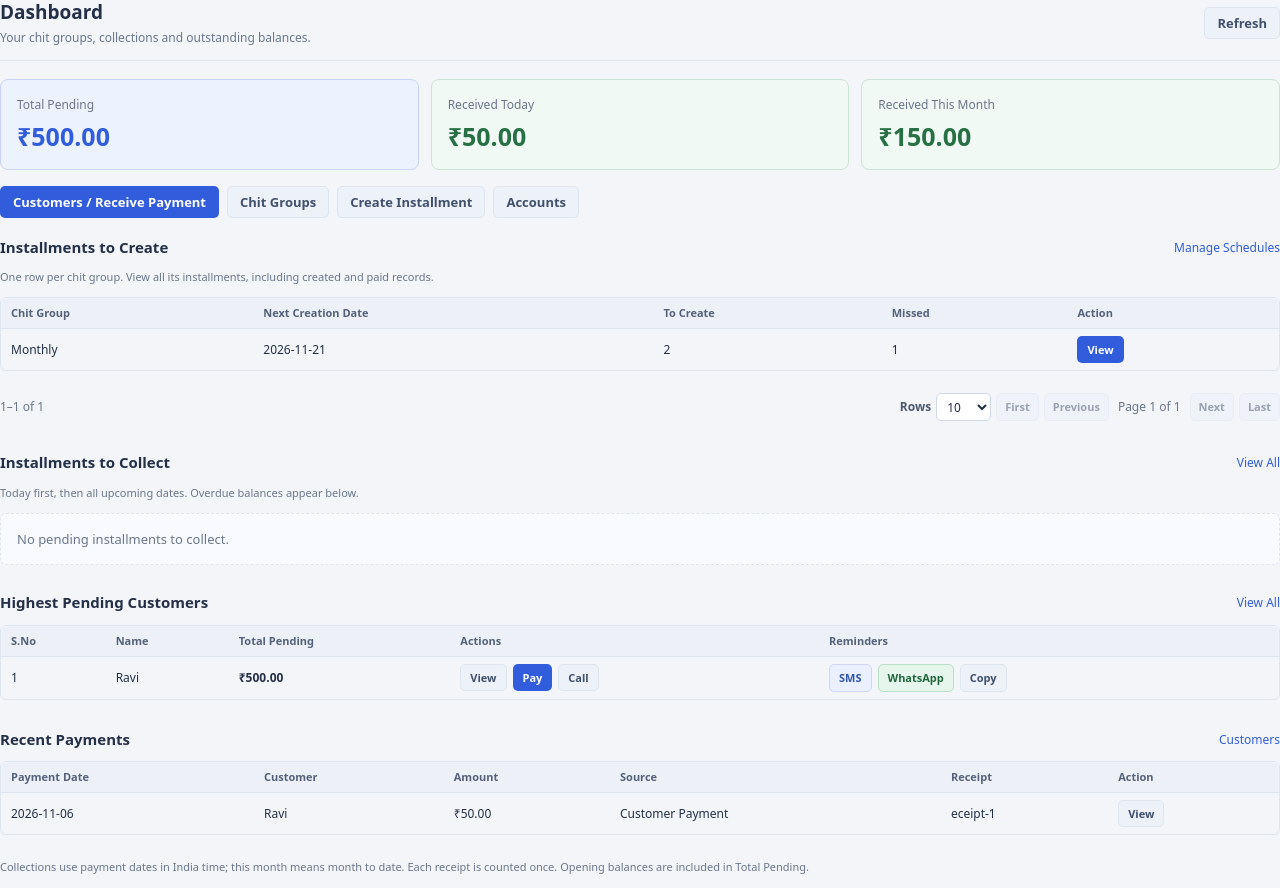
Scenario: Home installment delete confirms, supports cancel and refreshes the open popup after success
Click the button with aria-label "View installments for Monthly": click(1101, 350) [1078, 336, 1124, 363]
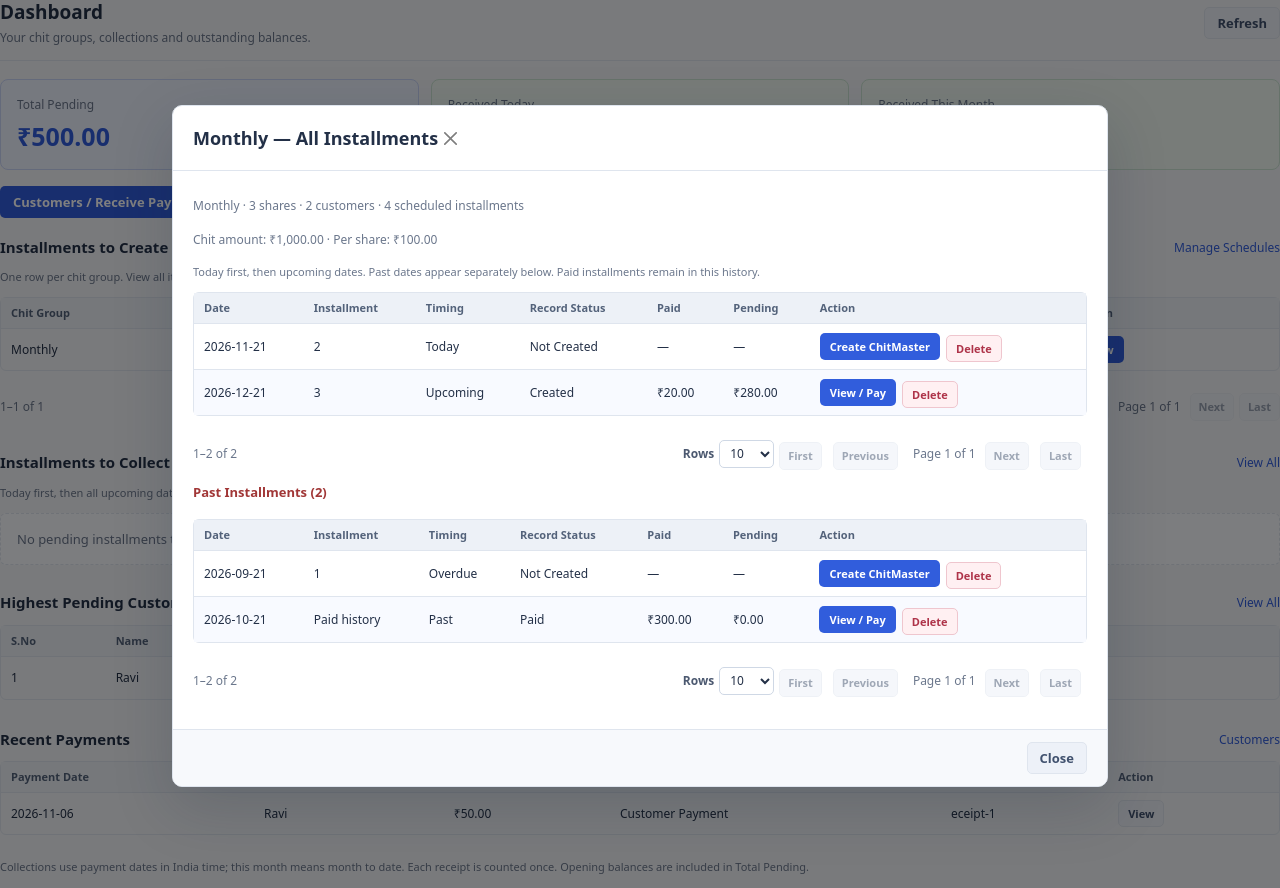
Click the button with aria-label "Delete installment 3 dated 2026-12-21": click(930, 394) [902, 381, 958, 408]
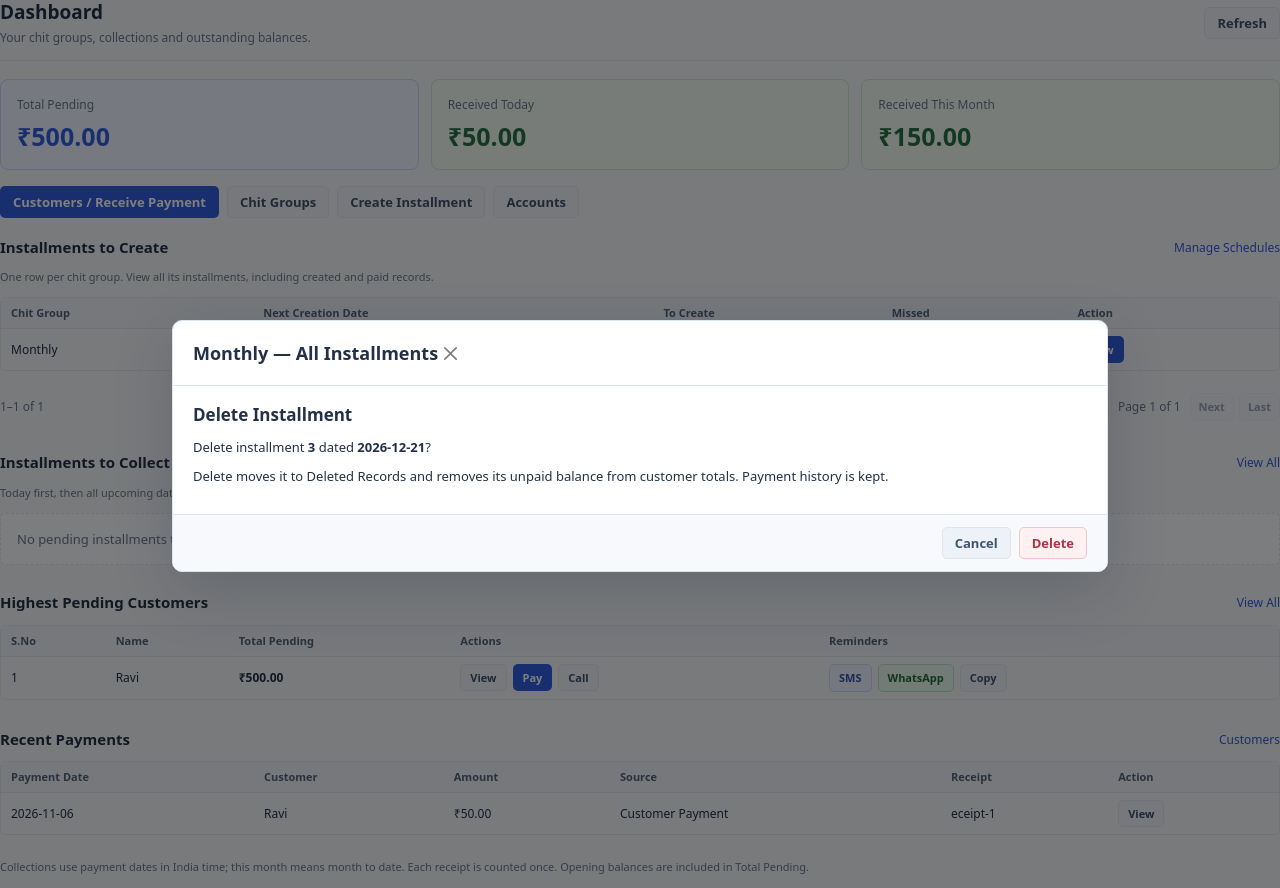
Click the button "Cancel": click(976, 543) [942, 527, 1011, 559]
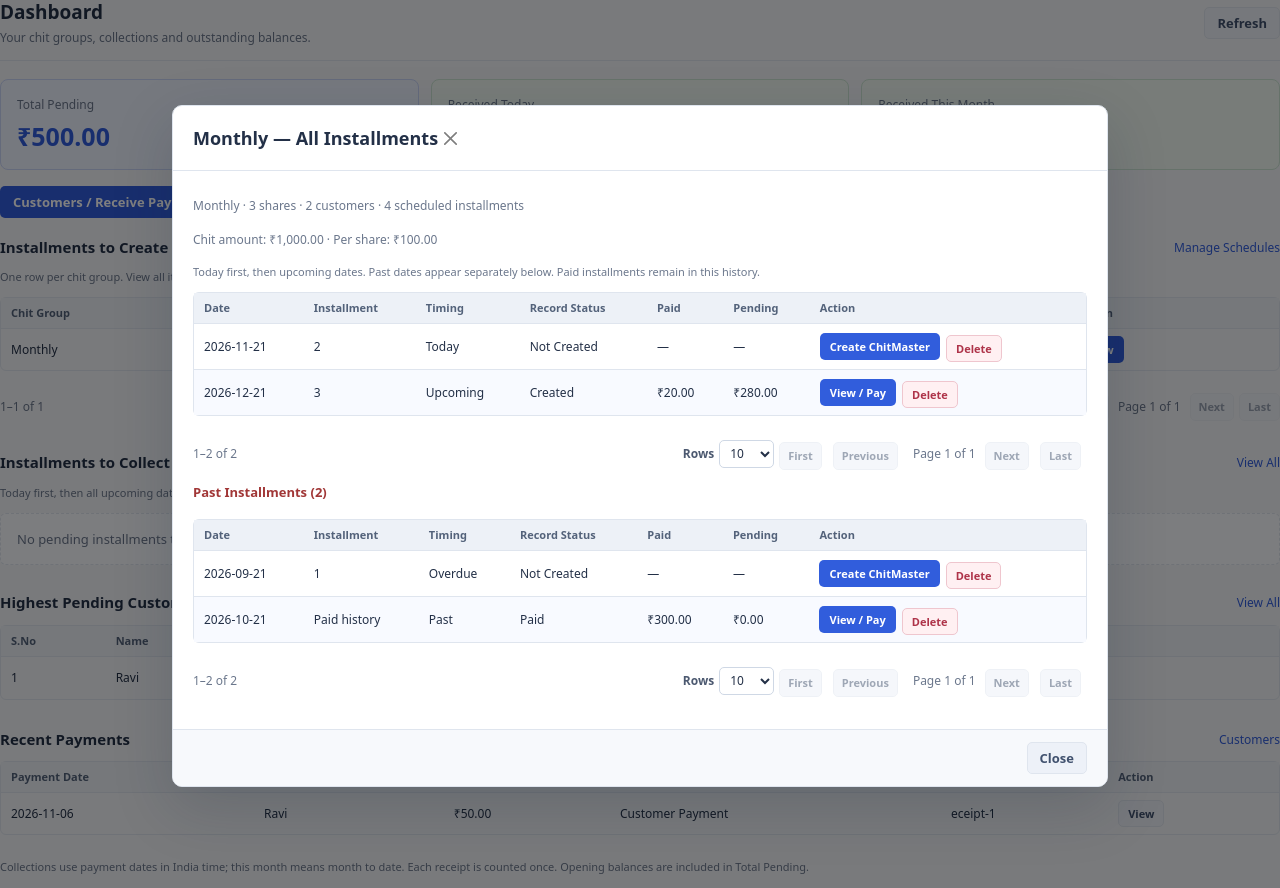
Click the button with aria-label "Delete installment 3 dated 2026-12-21": click(930, 394) [902, 381, 958, 408]
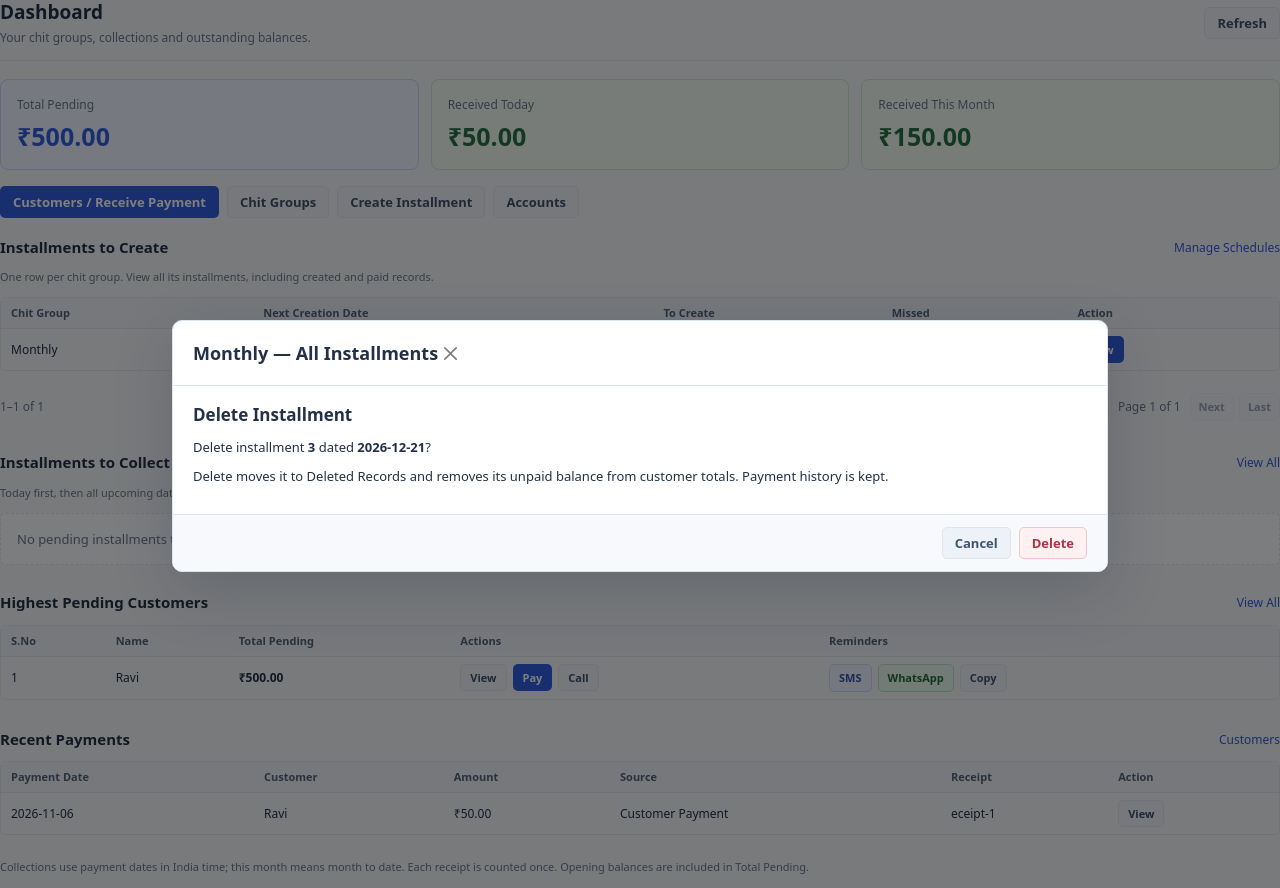
Click the button "Delete": click(1053, 543) [1019, 527, 1087, 559]
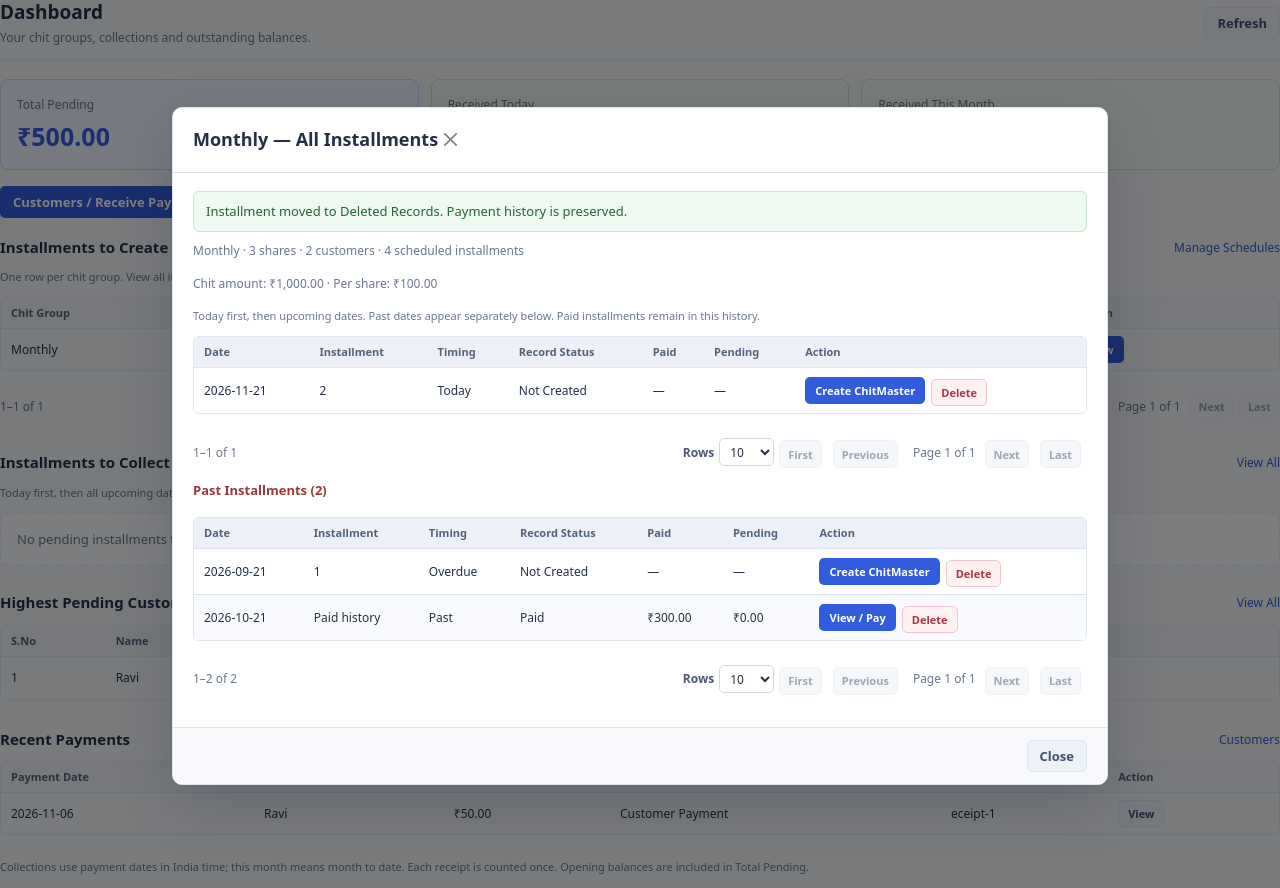
Expected: the message shows "moved to Deleted Records", [206, 202, 627, 220]
Expected: the button "Delete installment 3 dated 2026-12-21" is gone
